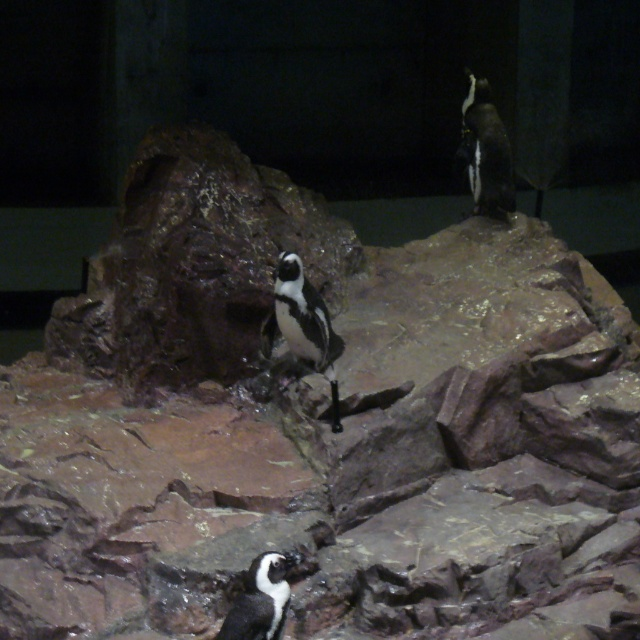Penguin: (252, 248, 340, 407), (454, 67, 528, 226), (212, 552, 300, 640)
